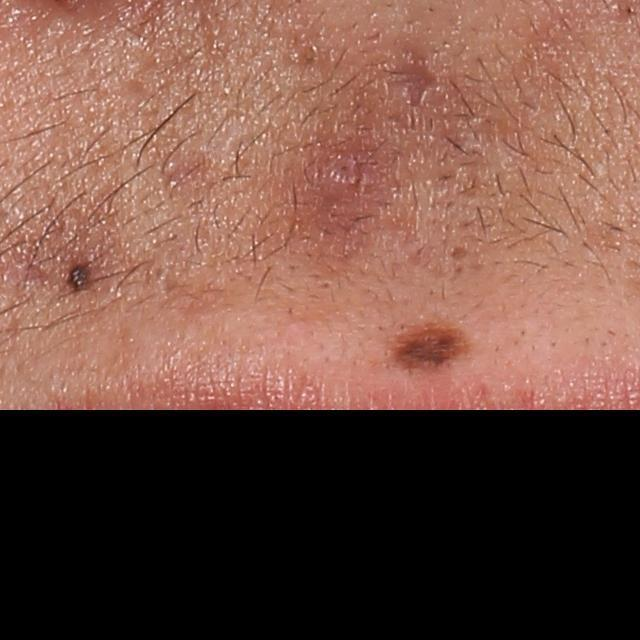atrophic_scar: (384, 43, 444, 105), (447, 242, 469, 260)
nevus: (385, 310, 473, 371), (66, 263, 93, 295)
